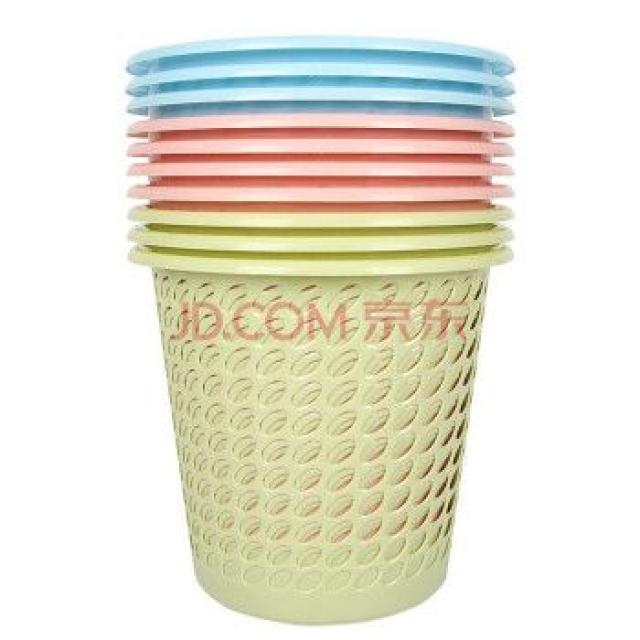dustbin: (125, 245, 525, 628)
